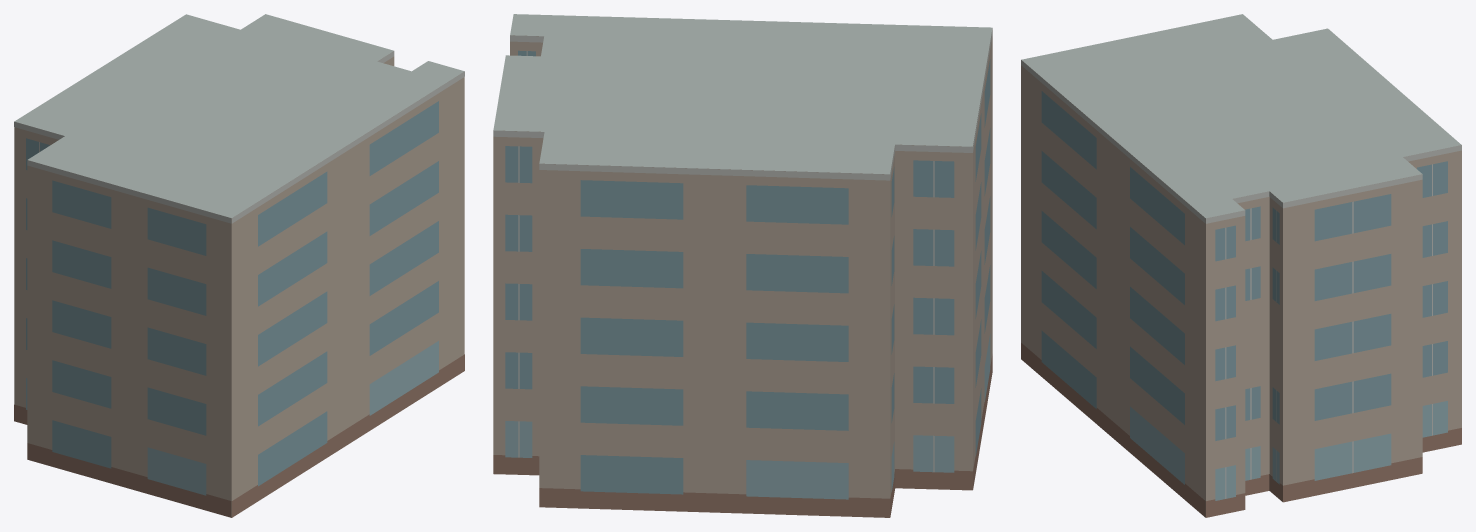
Rendered from survey-upis-32738334.glb.
The picture shows the model from 3 angles, left to right: view 1: azimuth 30°, elevation 25°; view 2: azimuth 150°, elevation 25°; view 3: azimuth 270°, elevation 25°; orthographic projection. The views are drawn at different scales.
Visible parts, largest first — view 1: survey-upis-32738334.tmp; view 2: survey-upis-32738334.tmp; view 3: survey-upis-32738334.tmp.
Part boxes in pixels (bbox=[...]): survey-upis-32738334.tmp: bbox=[14, 14, 464, 517]; survey-upis-32738334.tmp: bbox=[493, 14, 992, 517]; survey-upis-32738334.tmp: bbox=[1021, 14, 1461, 517].
Size of the model in its own units: 19.47 by 13.3 by 17.75.
